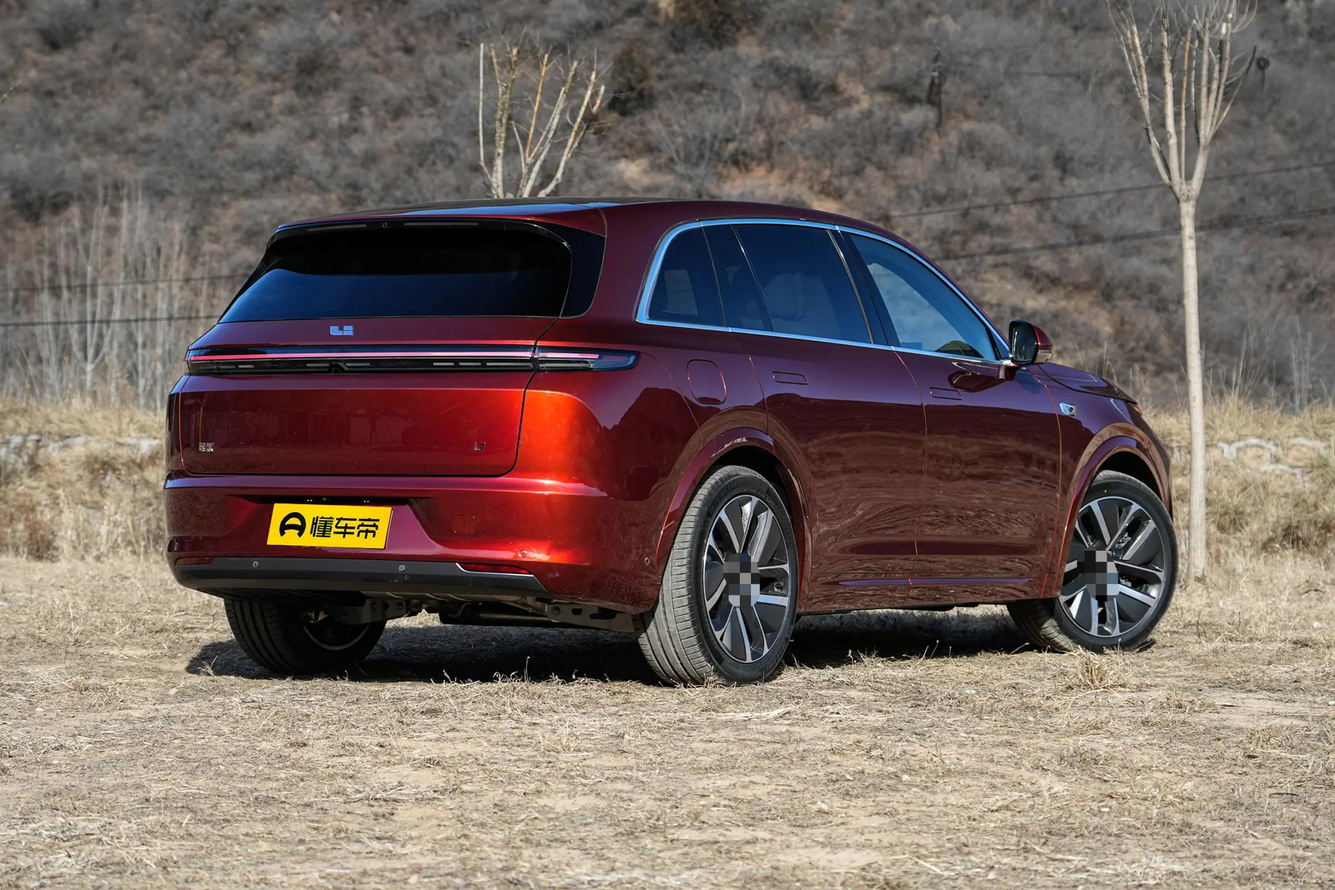Li Auto: (329, 325, 354, 335)
